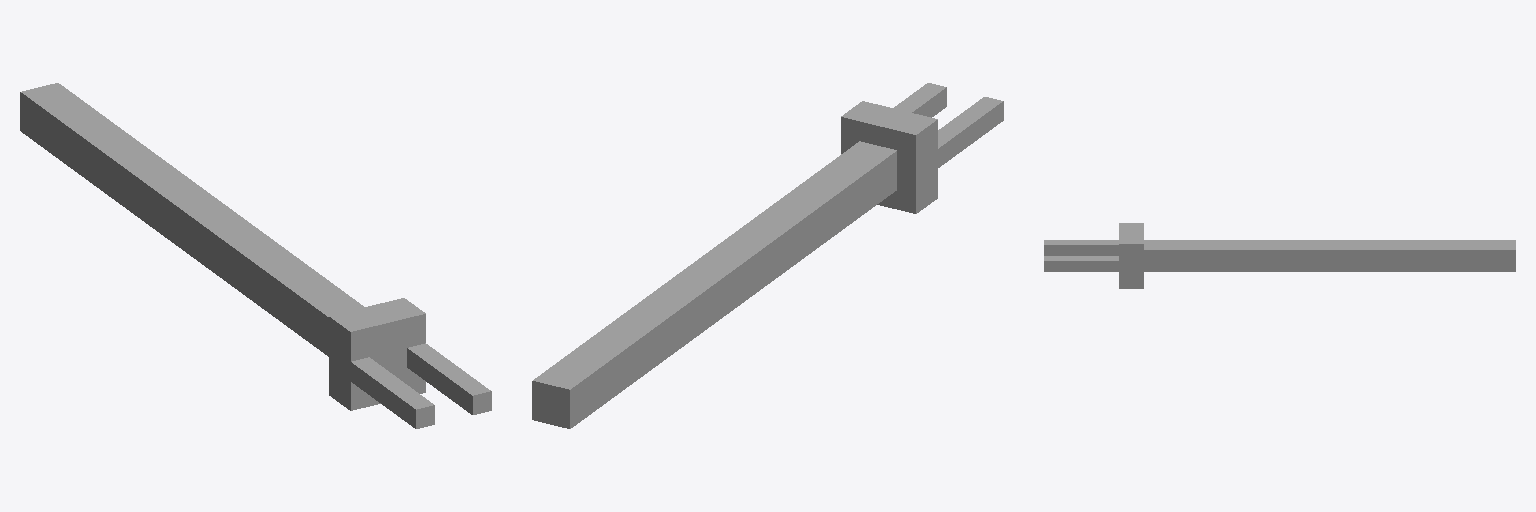
URDF robot description (spotarm_assembly):
<?xml version="1.0" ?>
<!-- =================================================================================== -->
<!-- |    This document was autogenerated by xacro from spotarm_assembly_description/urdf/spotarm_assembly.xacro | -->
<!-- |    EDITING THIS FILE BY HAND IS NOT RECOMMENDED                                 | -->
<!-- =================================================================================== -->
<robot name="spotarm_assembly">
  <material name="silver">
    <color rgba="0.700 0.700 0.700 1.000"/>
  </material>
  <transmission name="Revolute1_tran">
    <type>transmission_interface/SimpleTransmission</type>
    <joint name="Revolute1">
      <hardwareInterface>hardware_interface/EffortJointInterface</hardwareInterface>
    </joint>
    <actuator name="Revolute1_actr">
      <hardwareInterface>hardware_interface/EffortJointInterface</hardwareInterface>
      <mechanicalReduction>1</mechanicalReduction>
    </actuator>
  </transmission>
  <transmission name="Revolute2_tran">
    <type>transmission_interface/SimpleTransmission</type>
    <joint name="Revolute2">
      <hardwareInterface>hardware_interface/EffortJointInterface</hardwareInterface>
    </joint>
    <actuator name="Revolute2_actr">
      <hardwareInterface>hardware_interface/EffortJointInterface</hardwareInterface>
      <mechanicalReduction>1</mechanicalReduction>
    </actuator>
  </transmission>
  <transmission name="Revolute3_tran">
    <type>transmission_interface/SimpleTransmission</type>
    <joint name="Revolute3">
      <hardwareInterface>hardware_interface/EffortJointInterface</hardwareInterface>
    </joint>
    <actuator name="Revolute3_actr">
      <hardwareInterface>hardware_interface/EffortJointInterface</hardwareInterface>
      <mechanicalReduction>1</mechanicalReduction>
    </actuator>
  </transmission>
  <transmission name="Revolute4_tran">
    <type>transmission_interface/SimpleTransmission</type>
    <joint name="Revolute4">
      <hardwareInterface>hardware_interface/EffortJointInterface</hardwareInterface>
    </joint>
    <actuator name="Revolute4_actr">
      <hardwareInterface>hardware_interface/EffortJointInterface</hardwareInterface>
      <mechanicalReduction>1</mechanicalReduction>
    </actuator>
  </transmission>
  <transmission name="Revolute5_tran">
    <type>transmission_interface/SimpleTransmission</type>
    <joint name="Revolute5">
      <hardwareInterface>hardware_interface/EffortJointInterface</hardwareInterface>
    </joint>
    <actuator name="Revolute5_actr">
      <hardwareInterface>hardware_interface/EffortJointInterface</hardwareInterface>
      <mechanicalReduction>1</mechanicalReduction>
    </actuator>
  </transmission>
  <transmission name="Revolute6_tran">
    <type>transmission_interface/SimpleTransmission</type>
    <joint name="Revolute6">
      <hardwareInterface>hardware_interface/EffortJointInterface</hardwareInterface>
    </joint>
    <actuator name="Revolute6_actr">
      <hardwareInterface>hardware_interface/EffortJointInterface</hardwareInterface>
      <mechanicalReduction>1</mechanicalReduction>
    </actuator>
  </transmission>
  <gazebo>
    <plugin filename="libgazebo_ros_control.so" name="control"/>
  </gazebo>
  <gazebo reference="base_link">
    <material>Gazebo/Silver</material>
    <mu1>0.2</mu1>
    <mu2>0.2</mu2>
    <self_collide>true</self_collide>
    <gravity>true</gravity>
  </gazebo>
  <gazebo reference="link_2">
    <material>Gazebo/Silver</material>
    <mu1>0.2</mu1>
    <mu2>0.2</mu2>
    <self_collide>true</self_collide>
  </gazebo>
  <gazebo reference="link_3">
    <material>Gazebo/Silver</material>
    <mu1>0.2</mu1>
    <mu2>0.2</mu2>
    <self_collide>true</self_collide>
  </gazebo>
  <gazebo reference="link_4">
    <material>Gazebo/Silver</material>
    <mu1>0.2</mu1>
    <mu2>0.2</mu2>
    <self_collide>true</self_collide>
  </gazebo>
  <gazebo reference="link_5">
    <material>Gazebo/Silver</material>
    <mu1>0.2</mu1>
    <mu2>0.2</mu2>
    <self_collide>true</self_collide>
  </gazebo>
  <gazebo reference="stub_link">
    <material>Gazebo/Silver</material>
    <mu1>0.2</mu1>
    <mu2>0.2</mu2>
    <self_collide>true</self_collide>
  </gazebo>
  <ros2_control name="Arm" type="system">
    <hardware>
      <!-- By default, set up controllers for simulation. This won't work on real hardware -->
      <plugin>mock_components/GenericSystem</plugin>
    </hardware>
    <joint name="Revolute1">
      <command_interface name="position"/>
      <state_interface name="position">
        <param name="initial_value">0.0</param>
      </state_interface>
      <state_interface name="velocity"/>
    </joint>
    <joint name="Revolute2">
      <command_interface name="position"/>
      <state_interface name="position">
        <param name="initial_value">0.0</param>
      </state_interface>
      <state_interface name="velocity"/>
    </joint>
    <joint name="Revolute3">
      <command_interface name="position"/>
      <state_interface name="position">
        <param name="initial_value">0.0</param>
      </state_interface>
      <state_interface name="velocity"/>
    </joint>
    <joint name="Revolute4">
      <command_interface name="position"/>
      <state_interface name="position">
        <param name="initial_value">0.0</param>
      </state_interface>
      <state_interface name="velocity"/>
    </joint>
    <joint name="Revolute5">
      <command_interface name="position"/>
      <state_interface name="position">
        <param name="initial_value">0.0</param>
      </state_interface>
      <state_interface name="velocity"/>
    </joint>
  </ros2_control>
  <link name="base_link">
    <inertial>
      <origin rpy="0 0 0" xyz="-0.0010206433535600843 0.05102477807067246 0.07813725800807331"/>
      <mass value="3.2658781369547176"/>
      <inertia ixx="0.017479" ixy="0.003033" ixz="0.002731" iyy="0.012386" iyz="-0.005858" izz="0.01115"/>
    </inertial>
    <visual>
      <origin rpy="0 0 0" xyz="0 0 0"/>
      <geometry>
        <mesh filename="file:///home/chungus/msd_robot_arm_2/install/spotarm_assembly_description/share/spotarm_assembly_description/meshes/base_link.stl" scale="0.001 0.001 0.001"/>
      </geometry>
      <material name="silver"/>
    </visual>
    <collision>
      <origin rpy="0 0 0" xyz="0 0 0"/>
      <geometry>
        <mesh filename="file:///home/chungus/msd_robot_arm_2/install/spotarm_assembly_description/share/spotarm_assembly_description/meshes/base_link.stl" scale="0.001 0.001 0.001"/>
      </geometry>
    </collision>
  </link>
  <link name="link_2">
    <inertial>
      <origin rpy="0 0 0" xyz="-0.012527874109626764 -0.0005474727478518779 0.05618235883344737"/>
      <mass value="7.133736370057803"/>
      <inertia ixx="0.013679" ixy="0.000278" ixz="0.002124" iyy="0.018159" iyz="-0.000219" izz="0.014137"/>
    </inertial>
    <visual>
      <origin rpy="0 0 0" xyz="-0.02835 0.011972 -0.033179"/>
      <geometry>
        <mesh filename="file:///home/chungus/msd_robot_arm_2/install/spotarm_assembly_description/share/spotarm_assembly_description/meshes/Joint_2_Component_v2_1.stl" scale="0.001 0.001 0.001"/>
      </geometry>
      <material name="silver"/>
    </visual>
    <collision>
      <origin rpy="0 0 0" xyz="-0.02835 0.011972 -0.033179"/>
      <geometry>
        <mesh filename="file:///home/chungus/msd_robot_arm_2/install/spotarm_assembly_description/share/spotarm_assembly_description/meshes/Joint_2_Component_v2_1.stl" scale="0.001 0.001 0.001"/>
      </geometry>
    </collision>
  </link>
  <link name="link_3">
    <inertial>
      <origin rpy="0 0 0" xyz="-0.0023570645830831988 -0.2070530002719938 0.00014934365865988675"/>
      <mass value="9.269532978574247"/>
      <inertia ixx="0.160341" ixy="-1.4e-05" ixz="-0.00018" iyy="0.013913" iyz="1.2e-05" izz="0.160804"/>
    </inertial>
    <visual>
      <origin rpy="0 0 0" xyz="-0.074358 0.011972 -0.109385"/>
      <geometry>
        <mesh filename="file:///home/chungus/msd_robot_arm_2/install/spotarm_assembly_description/share/spotarm_assembly_description/meshes/Joint_3_Component_v2_1.stl" scale="0.001 0.001 0.001"/>
      </geometry>
      <material name="silver"/>
    </visual>
    <collision>
      <origin rpy="0 0 0" xyz="-0.074358 0.011972 -0.109385"/>
      <geometry>
        <mesh filename="file:///home/chungus/msd_robot_arm_2/install/spotarm_assembly_description/share/spotarm_assembly_description/meshes/Joint_3_Component_v2_1.stl" scale="0.001 0.001 0.001"/>
      </geometry>
    </collision>
  </link>
  <link name="link_4">
    <inertial>
      <origin rpy="0 0 0" xyz="-0.014428046075399614 -0.08611675195042084 -0.0016741934805408476"/>
      <mass value="7.656189719749854"/>
      <inertia ixx="0.044687" ixy="0.000767" ixz="1.1e-05" iyy="0.011252" iyz="-0.000125" izz="0.043172"/>
    </inertial>
    <visual>
      <origin rpy="0 0 0" xyz="-0.001798 0.325662 -0.109385"/>
      <geometry>
        <mesh filename="file:///home/chungus/msd_robot_arm_2/install/spotarm_assembly_description/share/spotarm_assembly_description/meshes/Joint_4_Component_v2_1.stl" scale="0.001 0.001 0.001"/>
      </geometry>
      <material name="silver"/>
    </visual>
    <collision>
      <origin rpy="0 0 0" xyz="-0.001798 0.325662 -0.109385"/>
      <geometry>
        <mesh filename="file:///home/chungus/msd_robot_arm_2/install/spotarm_assembly_description/share/spotarm_assembly_description/meshes/Joint_4_Component_v2_1.stl" scale="0.001 0.001 0.001"/>
      </geometry>
    </collision>
  </link>
  <link name="link_5">
    <inertial>
      <origin rpy="0 0 0" xyz="-8.830559206677441e-05 -0.10284977811786078 -0.00047877688390274287"/>
      <mass value="6.8508373998013345"/>
      <inertia ixx="0.031632" ixy="0.000268" ixz="3.9e-05" iyy="0.012107" iyz="-7.5e-05" izz="0.032684"/>
    </inertial>
    <visual>
      <origin rpy="0 0 0" xyz="0.010663 0.537462 -0.109385"/>
      <geometry>
        <mesh filename="file:///home/chungus/msd_robot_arm_2/install/spotarm_assembly_description/share/spotarm_assembly_description/meshes/Joint_5_Component_v2_1.stl" scale="0.001 0.001 0.001"/>
      </geometry>
      <material name="silver"/>
    </visual>
    <collision>
      <origin rpy="0 0 0" xyz="0.010663 0.537462 -0.109385"/>
      <geometry>
        <mesh filename="file:///home/chungus/msd_robot_arm_2/install/spotarm_assembly_description/share/spotarm_assembly_description/meshes/Joint_5_Component_v2_1.stl" scale="0.001 0.001 0.001"/>
      </geometry>
    </collision>
  </link>
  <link name="link_6_fake">
    <inertial>
      <origin rpy="0 0 0" xyz="0.011 -0.09 0"/>
      <mass value="0.2"/>
      <inertia ixx="1.3333333333333334e-05" ixy="0.0" ixz="0.0" iyy="4.8333333333333334e-05" iyz="0.0" izz="4.8333333333333334e-05"/>
    </inertial>
    <visual>
      <origin rpy="0 0 0" xyz="0.011 -0.09 0"/>
      <geometry>
        <box size="0.02 0.2 0.02"/>
      </geometry>
      <material name="silver"/>
    </visual>
    <collision>
      <origin rpy="0 0 0" xyz="0.011 -0.09 0"/>
      <geometry>
        <box size="0.02 0.2 0.02"/>
      </geometry>
    </collision>
  </link>
  <link name="link_7_fake">
    <inertial>
      <origin rpy="0 0 0" xyz="0 -0.1 0"/>
      <mass value="0.2"/>
      <inertia ixx="1.3333333333333334e-05" ixy="0.0" ixz="0.0" iyy="4.8333333333333334e-05" iyz="0.0" izz="4.8333333333333334e-05"/>
    </inertial>
    <visual>
      <origin rpy="0 0 0" xyz="0 -0.05 0"/>
      <geometry>
        <box size="0.02 0.1 0.02"/>
      </geometry>
      <material name="silver"/>
    </visual>
    <collision>
      <origin rpy="0 0 0" xyz="0 -0.1 0"/>
      <geometry>
        <box size="0.02 0.2 0.02"/>
      </geometry>
    </collision>
  </link>
  <link name="fake_gripper">
    <inertial>
      <origin rpy="0 0 0" xyz="0 -0.04 0"/>
      <mass value="0.05"/>
      <inertia ixx="3.333333333333334e-05" ixy="0.0" ixz="0.0" iyy="1.3333333333333334e-05" iyz="0.0" izz="3.333333333333334e-05"/>
    </inertial>
    <visual>
      <origin rpy="0 0 0" xyz="0 -0.01 0"/>
      <geometry>
        <box size="0.04 0.02 0.04"/>
      </geometry>
      <material name="silver"/>
    </visual>
    <visual>
      <origin rpy="0 0 0" xyz="0.015 -0.05 0"/>
      <geometry>
        <box size="0.01 0.06 0.01"/>
      </geometry>
      <material name="silver"/>
    </visual>
    <visual>
      <origin rpy="0 0 0" xyz="-0.015 -0.05 0"/>
      <geometry>
        <box size="0.01 0.06 0.01"/>
      </geometry>
      <material name="silver"/>
    </visual>
    <collision>
      <origin rpy="0 0 0" xyz="0 -0.04 0"/>
      <geometry>
        <box size="0.04 0.08 0.04"/>
      </geometry>
    </collision>
  </link>
  <joint name="Revolute1" type="continuous">
    <origin rpy="0 0 0" xyz="0.02835 -0.011972 0.033179"/>
    <parent link="base_link"/>
    <child link="link_2"/>
    <axis xyz="-0.0 0.0 1.0"/>
  </joint>
  <joint name="Revolute2" type="continuous">
    <origin rpy="0 0 0" xyz="0.046008 0.0 0.076206"/>
    <parent link="link_2"/>
    <child link="link_3"/>
    <axis xyz="1.0 -0.0 -0.0"/>
  </joint>
  <joint name="Revolute3" type="continuous">
    <origin rpy="0 0 0" xyz="-0.07256 -0.31369 0.0"/>
    <parent link="link_3"/>
    <child link="link_4"/>
    <axis xyz="-1.0 0.0 0.0"/>
  </joint>
  <joint name="Revolute4" type="continuous">
    <origin rpy="0 0 0" xyz="-0.012461 -0.2118 0.0"/>
    <parent link="link_4"/>
    <child link="link_5"/>
    <axis xyz="-0.0 -1.0 0.0"/>
  </joint>
  <joint name="Revolute5" type="continuous">
    <origin rpy="0 0 0" xyz="0.07 -0.144 0"/>
    <parent link="link_5"/>
    <child link="link_6_fake"/>
    <axis xyz="1.0 0.0 0.0"/>
  </joint>
  <joint name="Revolute6" type="continuous">
    <origin rpy="0 0 0" xyz="0.011 -0.19 0"/>
    <parent link="link_6_fake"/>
    <child link="link_7_fake"/>
    <axis xyz="0.0 1.0 0.0"/>
  </joint>
  <joint name="fake_gripper_fixed" type="fixed">
    <origin rpy="0 0 0" xyz="0 -0.1 0"/>
    <parent link="link_7_fake"/>
    <child link="fake_gripper"/>
  </joint>
</robot>

--- What the picture shows (computed from the rendered views, not written in the file) ---
3 views of the same robot in one strip: view 1: azimuth 30°, elevation 25°; view 2: azimuth 150°, elevation 25°; view 3: azimuth 270°, elevation 25° (orthographic).
Robot: spotarm_assembly — 8 links, 7 joints (6 continuous, 1 fixed); root link base_link; default pose: every joint at zero.
Visible links, largest first — view 1: link_6_fake, fake_gripper, link_7_fake; view 2: link_6_fake, fake_gripper, link_7_fake; view 3: link_6_fake, fake_gripper, link_7_fake.
Boxes of the visible links, bbox=[...] form: link_6_fake: bbox=[20, 83, 274, 290]; fake_gripper: bbox=[329, 298, 491, 428]; link_7_fake: bbox=[239, 242, 363, 356]; link_6_fake: bbox=[532, 221, 787, 428]; fake_gripper: bbox=[841, 83, 1003, 213]; link_7_fake: bbox=[751, 141, 896, 269]; link_6_fake: bbox=[1268, 240, 1515, 271]; fake_gripper: bbox=[1044, 223, 1143, 288]; link_7_fake: bbox=[1144, 240, 1267, 271].
Size in the robot's own frame: 0.04 by 0.38 by 0.04 metres.
Geometry: only primitive shapes (box / cylinder / sphere) drawn; not drawn: 5 mesh visuals (reference in a form the renderer does not follow).
